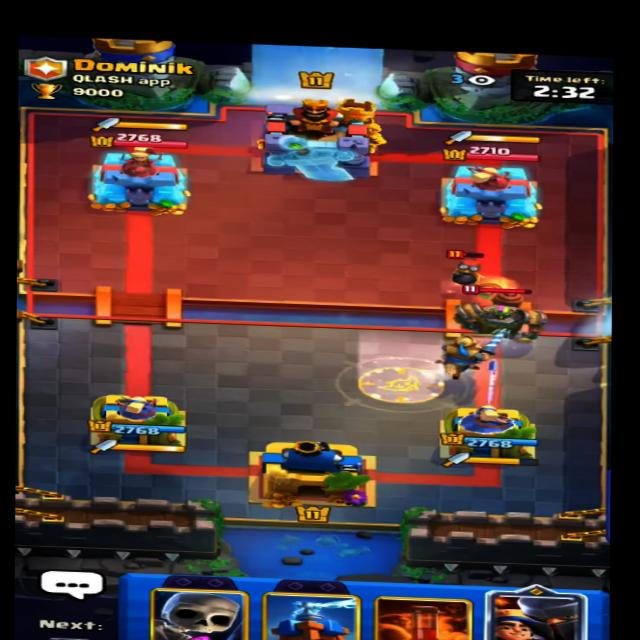bomber: (438, 245, 492, 290)
goblin-machine: (449, 281, 559, 341)
